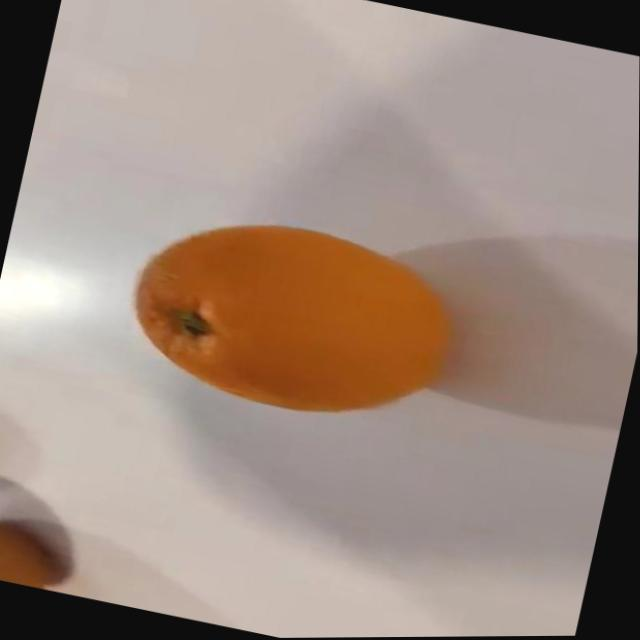Orange: (111, 196, 468, 443)
